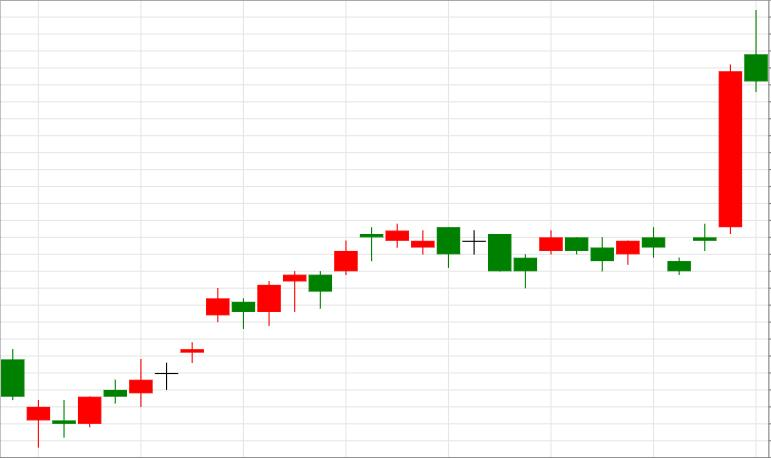shooting_star_fall: (668, 9, 768, 276)
